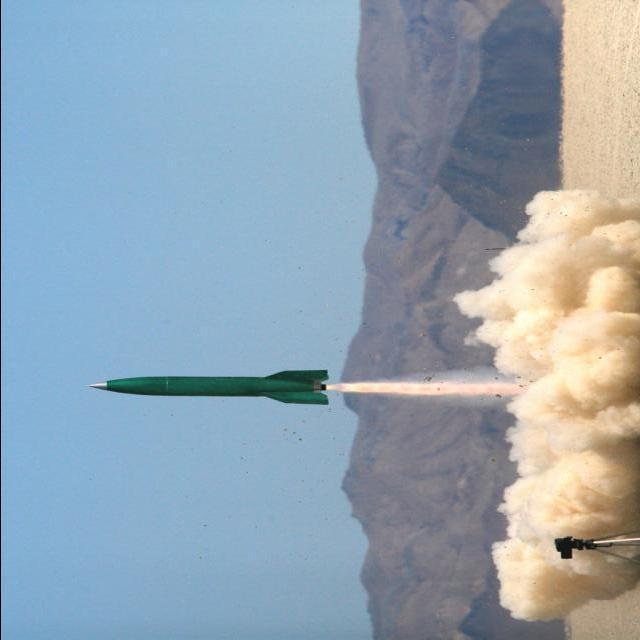missile: (85, 368, 333, 410)
